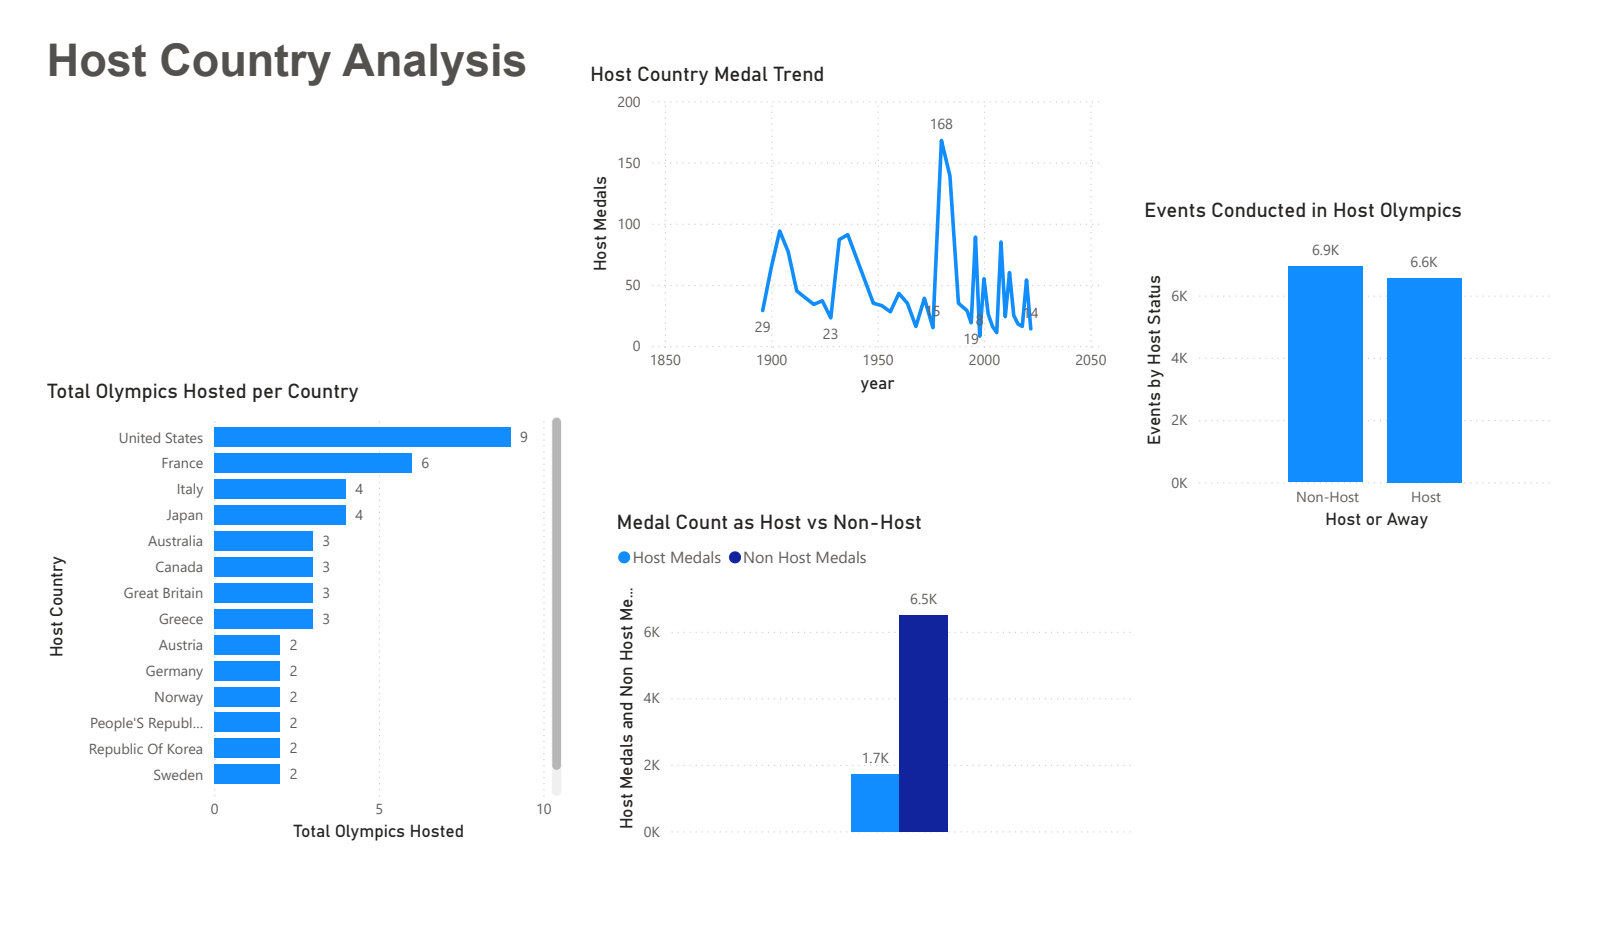

The dashboard page shown, as its layout file describes it:
{"tool":"powerbi","page":{"name":"Host Country Analysis","canvas":[1280,720],"ordinal":4},"visuals":[{"type":"textbox","box":[9.8,0,437.8,280],"z":0},{"type":"clusteredBarChart","title":"Total Olympics Hosted per Country","fields":{"Category":["games.Host Country"],"Y":["games.Total Olympics Hosted"]},"box":[9.6,289.5,437.7,389.7],"z":1000},{"type":"clusteredColumnChart","title":"Medal Count as Host vs Non-Host","fields":{"Y":["olympic_athlete_event_result.Host Medals","olympic_athlete_event_result.Non Host Medals"]},"box":[483,399.3,437.7,279.9],"z":2000},{"type":"lineChart","title":"Host Country Medal Trend","fields":{"Category":["games.year"],"Y":["olympic_athlete_event_result.Host Medals"]},"box":[461,26.9,437.8,280],"z":2001},{"type":"clusteredColumnChart","title":"Events Conducted in Host Olympics","fields":{"Category":["olympic_athlete_event_result.Host or Away"],"Y":["olympic_athlete_event_result.Events by Host Status"]},"box":[920.8,140,349.9,279.9],"z":2002}]}

Visuals, with their boxes in screenshot pixels (x1, y1, x2, y2), scaled from the page's 1280x720 canvas onto the 1600x926 screenshot:
textbox: 12,0,560,360
"Total Olympics Hosted per Country" clusteredBarChart: 12,372,559,874
"Medal Count as Host vs Non-Host" clusteredColumnChart: 604,514,1151,874
"Host Country Medal Trend" lineChart: 576,35,1124,395
"Events Conducted in Host Olympics" clusteredColumnChart: 1151,180,1588,540
